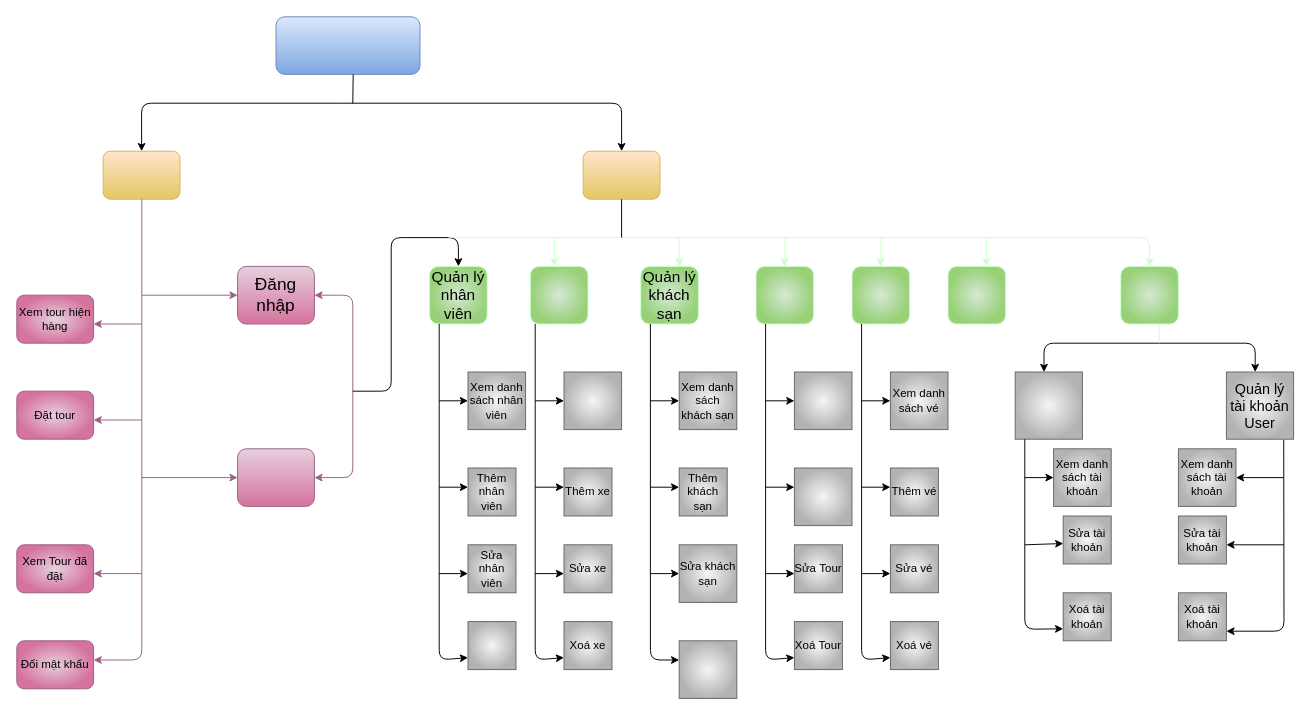
This 1310x715 diagram has some shape labels left out. Each missing label, with the centre of its shape:
"Người dùng" goes at point 141,174.
"Quản lý du lịch" goes at point 347,45.
"Quản lý Tour" goes at point 784,294.
"Quản lý Tài khoản" goes at point 1149,294.
"Quản lý tài khoản Admin" goes at point 1048,405.
"Quản lý vé" goes at point 880,294.
"Quản lý xe" goes at point 558,294.
"Quản trị viên" goes at point 621,174.
"Thêm Tour" goes at point 822,496.
"Thống kê vé" goes at point 976,294.
"Xem danh sách Tour" goes at point 822,400.
"Xem danh sách xe" goes at point 592,400.
"Xoá khách sạn" goes at point 707,669.
"Xoá nhân viên" goes at point 491,645.
"Đăng xuất" goes at point 275,477.
